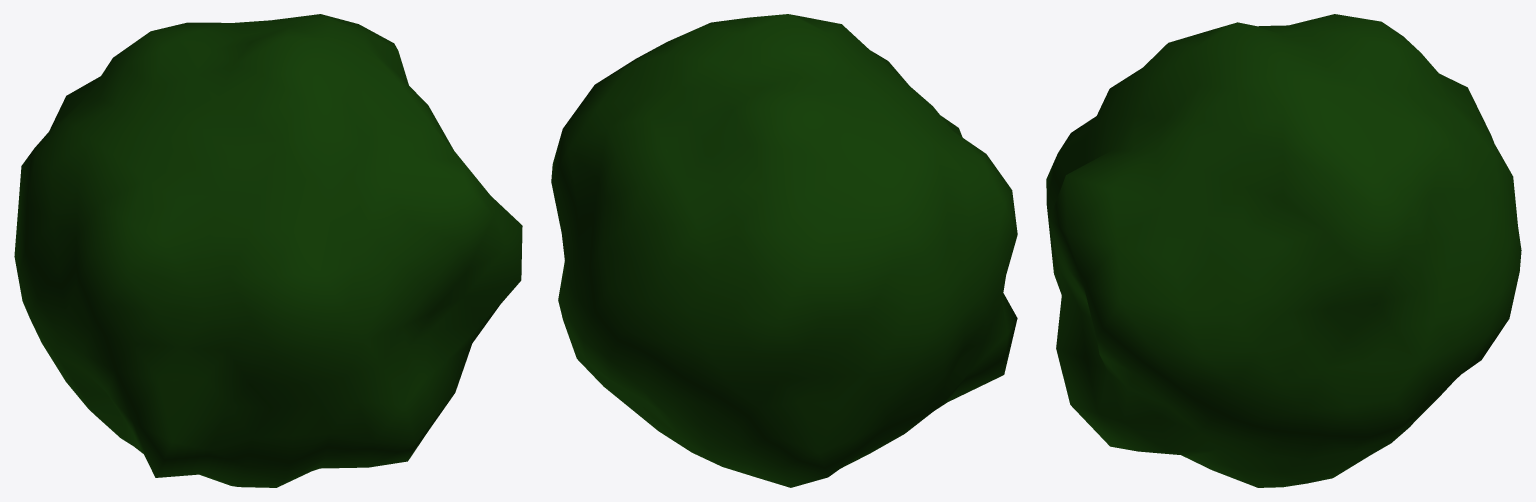
The model's file is Bush.FBX.
3 renders of one model, left to right at view 1: azimuth 30°, elevation 25°; view 2: azimuth 150°, elevation 25°; view 3: azimuth 270°, elevation 25°, orthographic. The views are drawn at different scales.
Parts seen in each view (by area): view 1: Bushmann; view 2: Bushmann; view 3: Bushmann.
Boxes of the visible parts, bbox=[...] form: Bushmann: bbox=[14, 14, 522, 487]; Bushmann: bbox=[551, 14, 1017, 487]; Bushmann: bbox=[1046, 14, 1521, 487].
Bounding box in the file's own units: 18.66 × 19.04 × 18.47.
